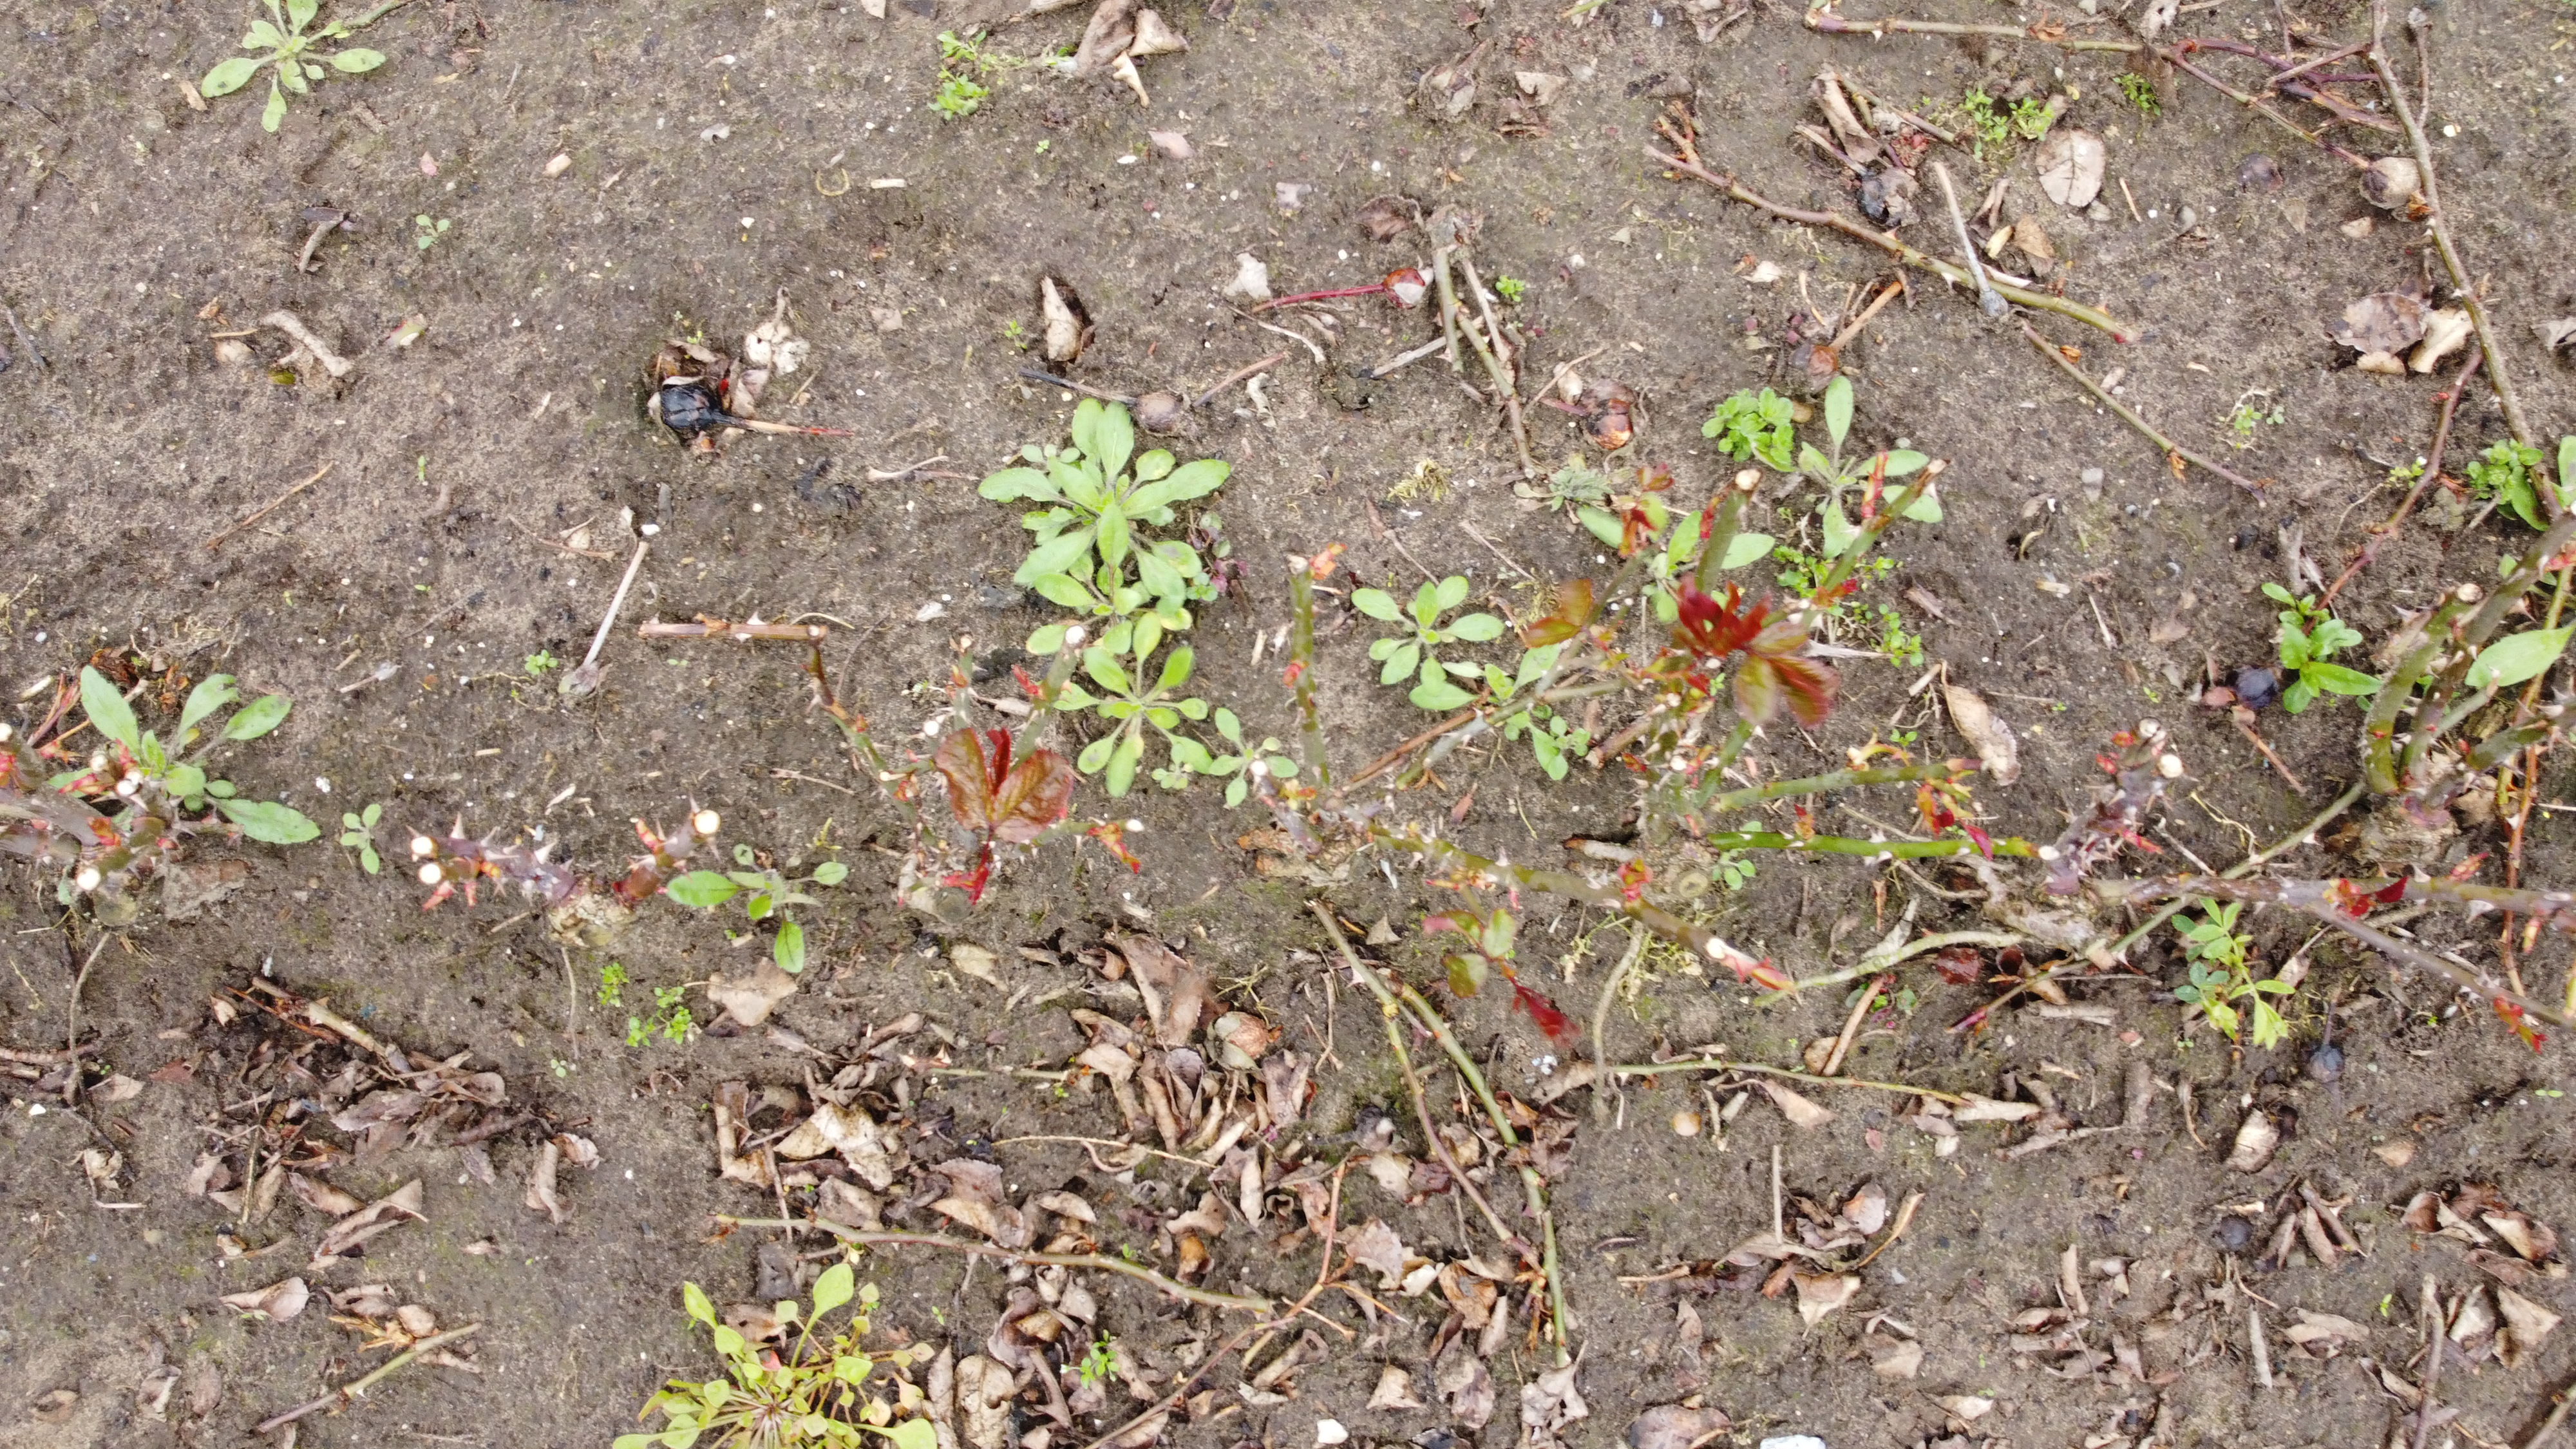Rose: (2332, 515, 2576, 855), (1295, 656, 1766, 817), (1617, 743, 2054, 876)
Weed: (1003, 405, 1258, 796), (51, 658, 333, 853), (619, 1279, 934, 1449), (660, 844, 855, 978), (1798, 373, 1936, 548), (202, 5, 386, 126), (2160, 890, 2291, 1049), (1571, 492, 1759, 593), (1346, 580, 1495, 681), (2259, 580, 2369, 708), (1481, 640, 1575, 786), (1697, 372, 1805, 483), (1941, 83, 2043, 161), (2459, 441, 2548, 518), (927, 23, 987, 120), (1863, 603, 1930, 674), (623, 987, 695, 1049), (338, 798, 384, 876), (1407, 678, 1484, 717), (1069, 1332, 1118, 1384), (2116, 71, 2157, 117), (589, 964, 625, 1014), (2229, 402, 2279, 433), (412, 212, 451, 251), (517, 651, 561, 674), (1491, 271, 1522, 303)
